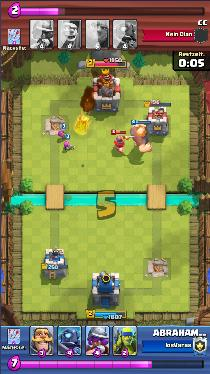ally_archer: (61, 142, 76, 152), (57, 129, 68, 140)
ally_giant: (129, 120, 154, 154)
enemy_fireball: (72, 113, 93, 135)
enemy_knight: (112, 133, 130, 154)
